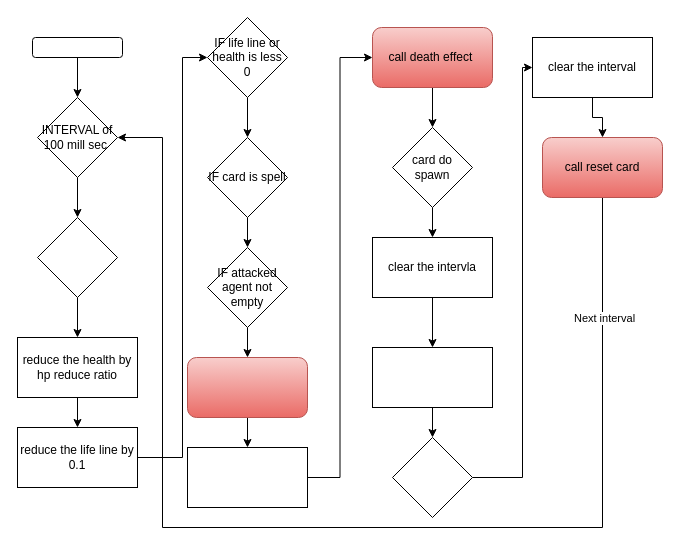
The diagram is 680 pixels wide and 553 high, and some of its shapes have lost their labels. Each missing label, with the centre of its shape:
call doAfterSpellAction: (247,387)
clear the attacking interval: (432,377)
IF card has life line interval: (432,477)
IF card is building and has health: (77,257)
reset health 0: (247,477)
start: (77,47)
